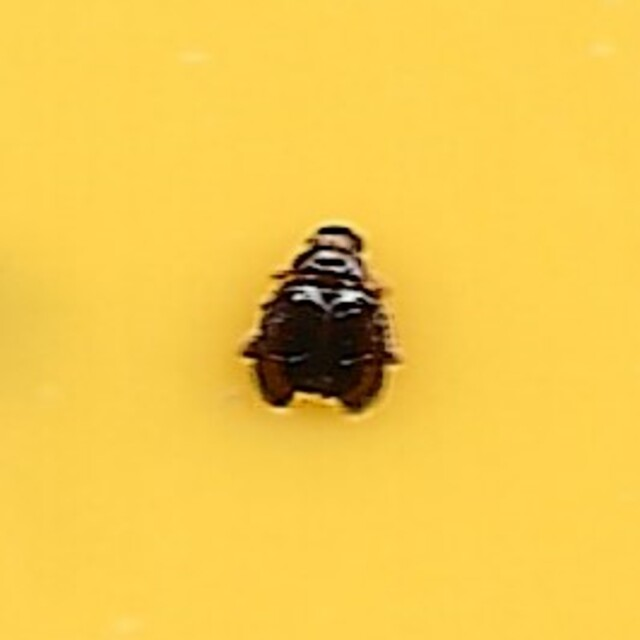Coleoptera: (241, 225, 399, 415)
